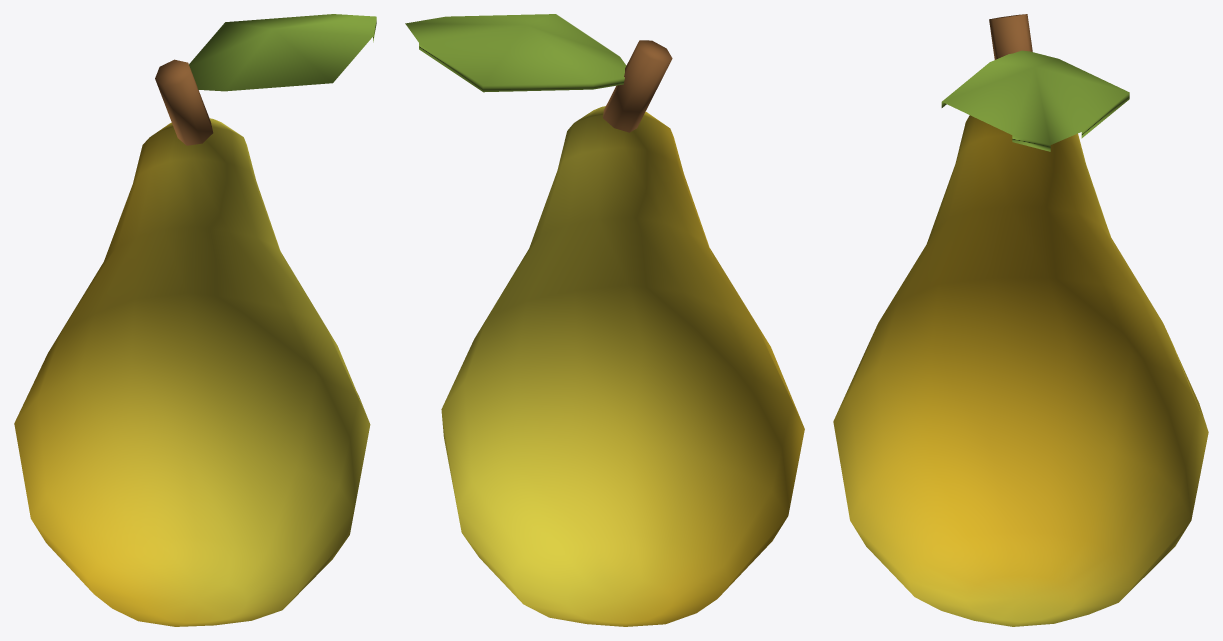
File: 05_pear.glb
3 renders of one model, left to right at view 1: azimuth 30°, elevation 25°; view 2: azimuth 150°, elevation 25°; view 3: azimuth 270°, elevation 25°, orthographic. The views are drawn at different scales.
Visible parts, largest first — view 1: Pear leaf; view 2: Pear leaf; view 3: Pear leaf.
Boxes of the visible parts, left/top/right/bottom form: Pear leaf: left=14, top=14, right=376, bottom=626; Pear leaf: left=405, top=14, right=804, bottom=626; Pear leaf: left=833, top=14, right=1208, bottom=626.
Bounding box in the file's own units: 0.1679 × 0.2544 × 0.1507.
